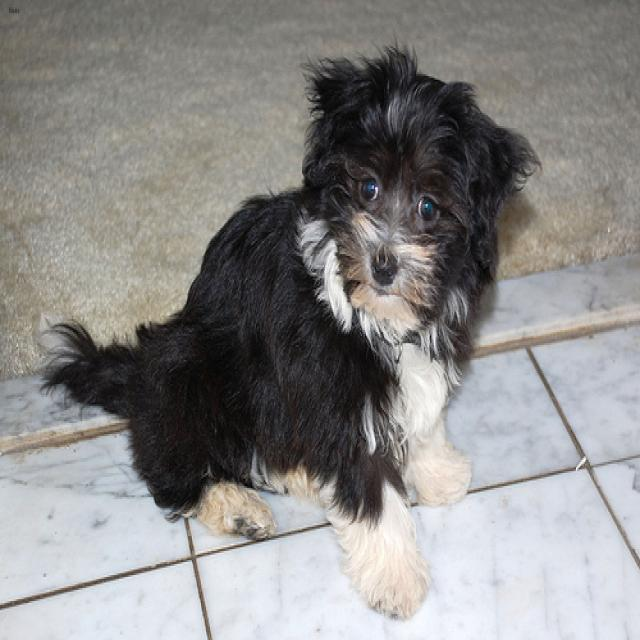dog-havanese: (32, 39, 547, 636)
